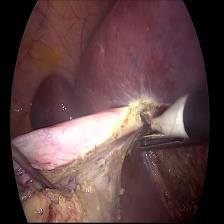Grasper: (14, 143, 69, 217), (133, 134, 191, 159)
Hook: (137, 97, 189, 135)
